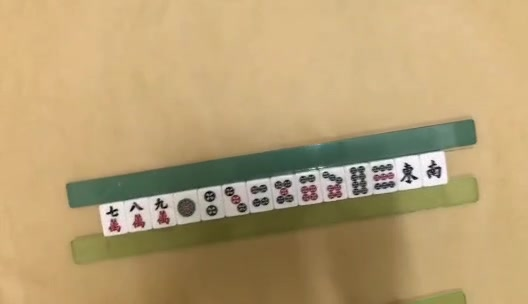1p: (178, 198, 196, 217)
1z: (401, 163, 418, 185)
2p: (205, 189, 218, 217)
2z: (427, 160, 442, 181)
3p: (225, 186, 247, 213)
4p: (250, 185, 270, 207)
5p: (274, 179, 294, 205)
6p: (299, 174, 318, 202)
7m: (105, 207, 122, 233)
7p: (322, 170, 343, 199)
8m: (129, 201, 145, 230)
8p: (350, 167, 368, 196)
9m: (154, 199, 170, 227)
9p: (373, 163, 394, 191)
